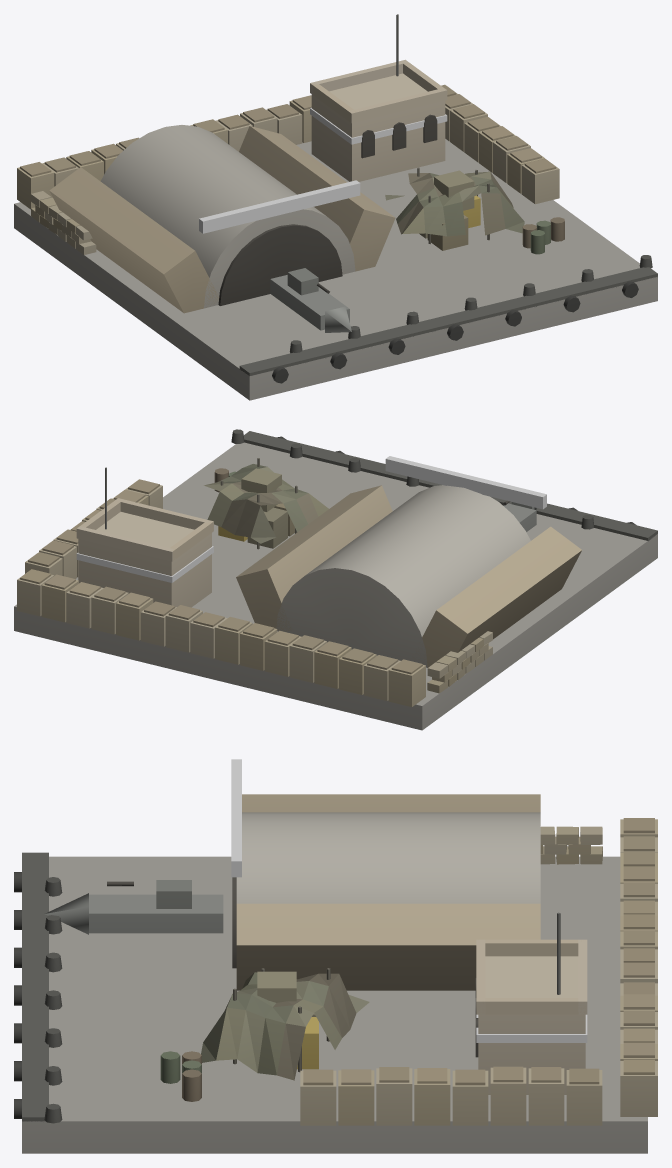
File: m_shipyard_b504a23a.glb
3 renders of one model, top to bottom at view 1: azimuth 30°, elevation 25°; view 2: azimuth 150°, elevation 25°; view 3: azimuth 270°, elevation 25°, orthographic. The views are drawn at different scales.
Parts seen in each view (by area): view 1: mesh; view 2: mesh; view 3: mesh.
Part boxes in pixels (box(x1,y1,x2,y2)): mesh: box(14, 14, 657, 400); mesh: box(14, 429, 657, 730); mesh: box(14, 759, 657, 1153).
Size of the model in its own units: 71.98 by 25 by 72.
